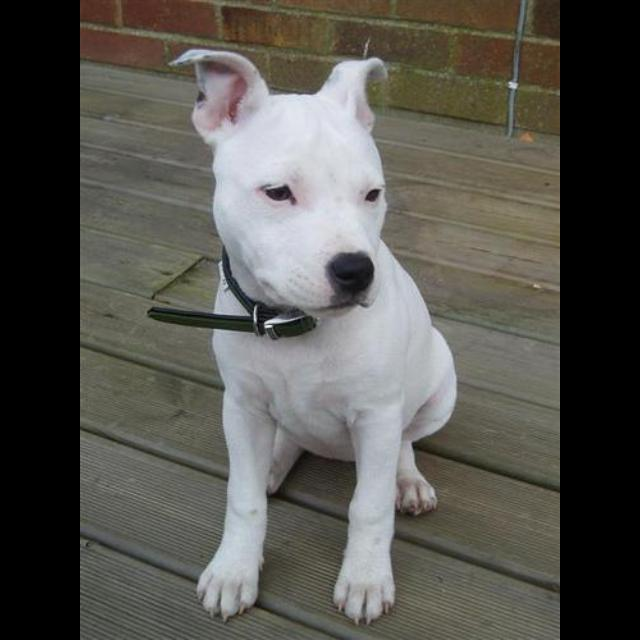staffford: (168, 48, 458, 627)
